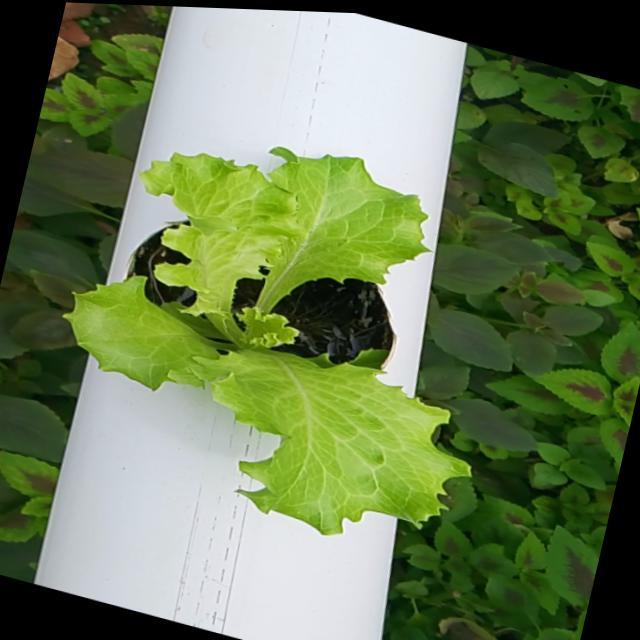Baby: (61, 145, 468, 533)
